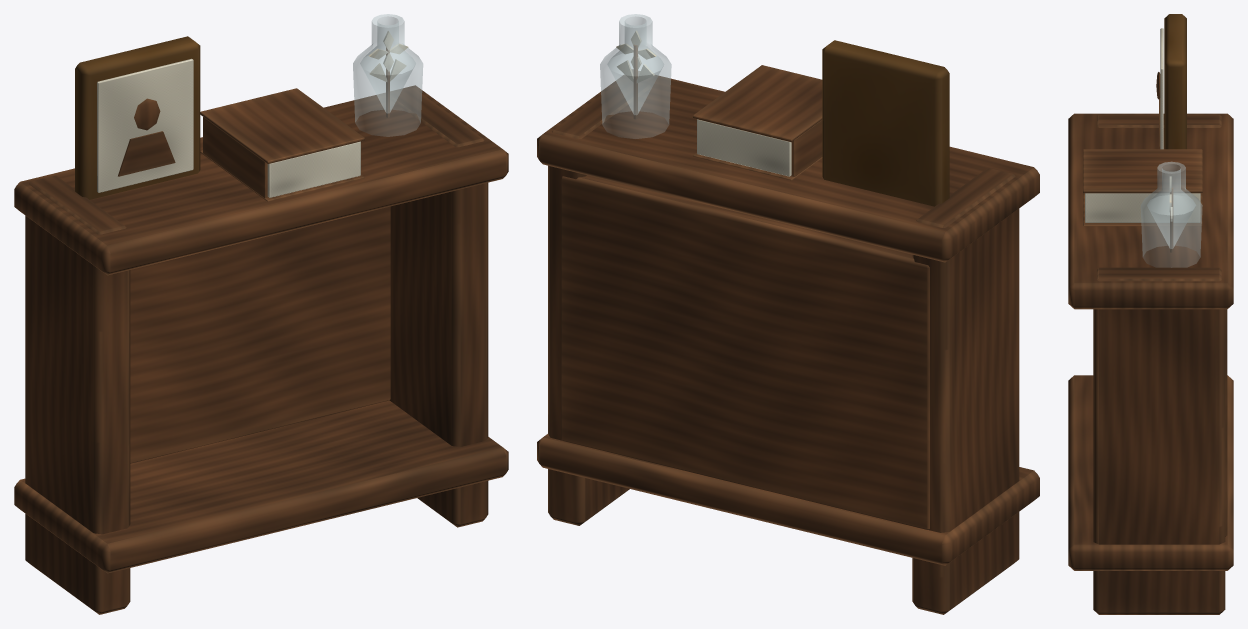
File: Furn_Place_MemoryShelf.fbx
3 renders of one model, left to right at view 1: azimuth 30°, elevation 25°; view 2: azimuth 150°, elevation 25°; view 3: azimuth 270°, elevation 25°, orthographic. The views are drawn at different scales.
Visible parts, largest first — view 1: Furn_Place_MemoryShelf; view 2: Furn_Place_MemoryShelf; view 3: Furn_Place_MemoryShelf.
Boxes of the visible parts, bbox=[...] form: Furn_Place_MemoryShelf: bbox=[14, 14, 508, 614]; Furn_Place_MemoryShelf: bbox=[537, 14, 1039, 614]; Furn_Place_MemoryShelf: bbox=[1068, 14, 1233, 614].
Bounding box in the file's own units: 1 × 1.2 × 0.4.
4 materials, 3 textured.
